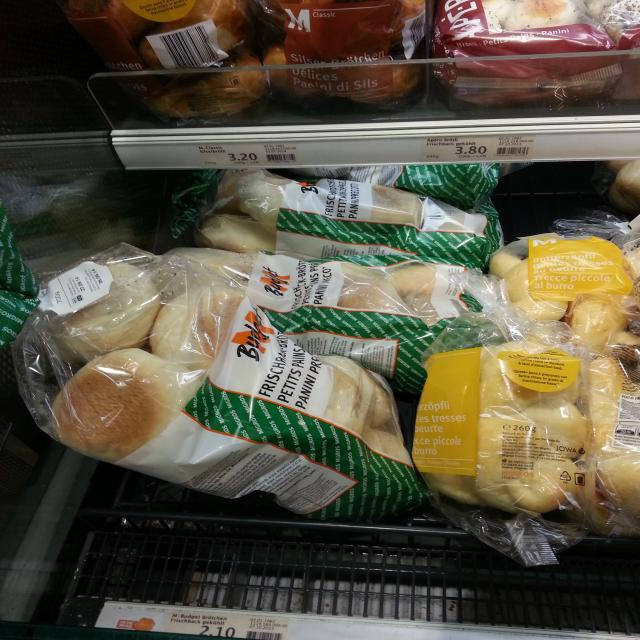Bakery: (0, 250, 435, 524), (410, 331, 594, 518), (187, 173, 507, 277), (48, 0, 276, 125), (428, 0, 616, 113), (258, 0, 428, 111), (497, 226, 640, 356)
